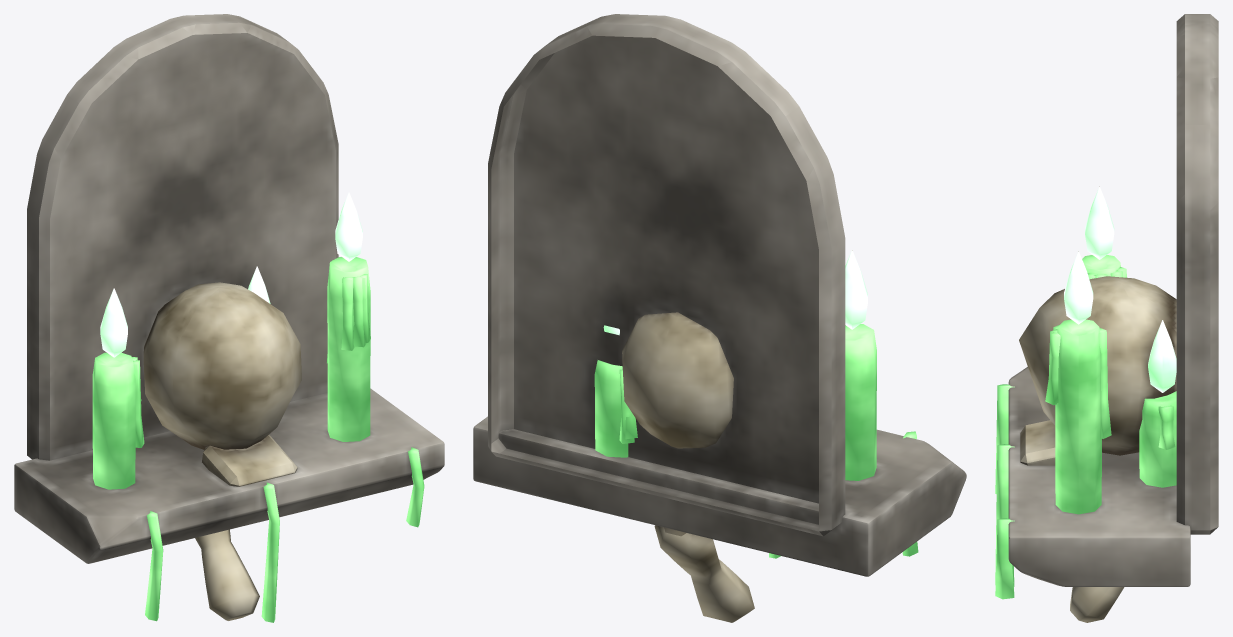
Rendered from Ossuary_Light.fbx.
3 renders of one model, left to right at view 1: azimuth 30°, elevation 25°; view 2: azimuth 150°, elevation 25°; view 3: azimuth 270°, elevation 25°, orthographic. The views are drawn at different scales.
Visible parts, largest first — view 1: Ossuary_Light; view 2: Ossuary_Light; view 3: Ossuary_Light.
Part boxes in pixels (x1=…): Ossuary_Light: x1=14, y1=14, x2=444, y2=622; Ossuary_Light: x1=473, y1=14, x2=966, y2=622; Ossuary_Light: x1=995, y1=14, x2=1218, y2=622.
Size of the model in its own units: 0.75 by 1.16 by 0.3987.
